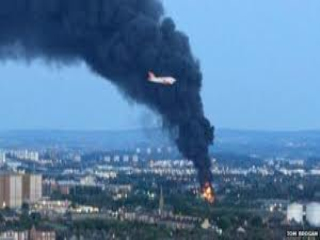fire: (190, 178, 231, 211), (196, 181, 219, 205)
smoke: (80, 3, 226, 181)
